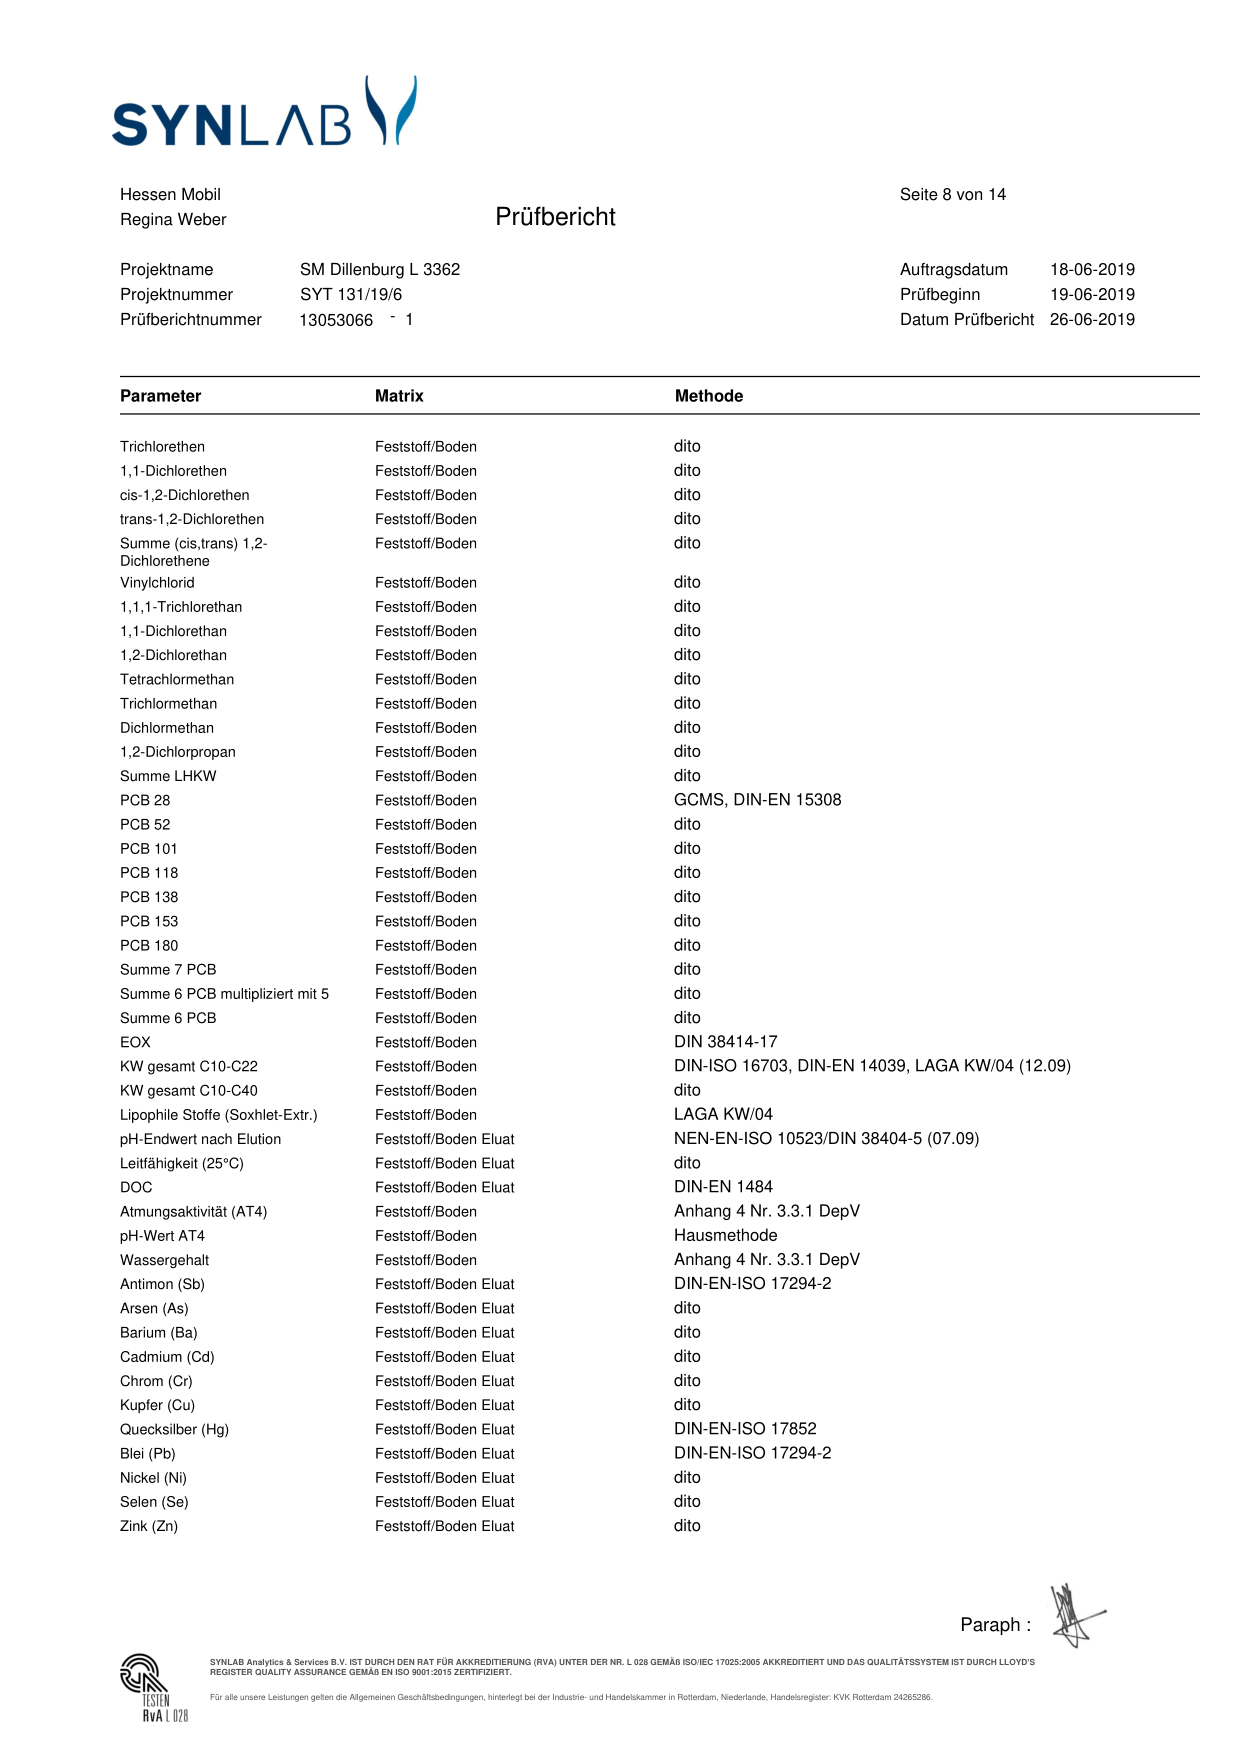table: (98, 424, 1147, 1544)
